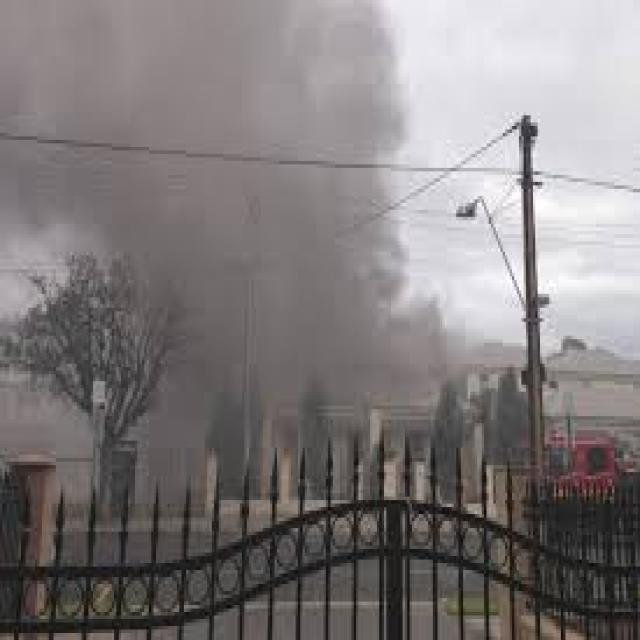smoke: (114, 9, 398, 439)
